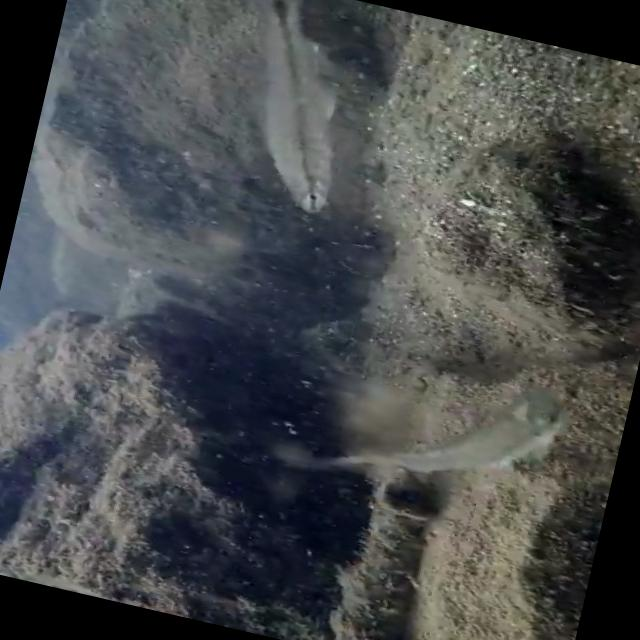Cakil Baligi: (194, 0, 380, 220)
